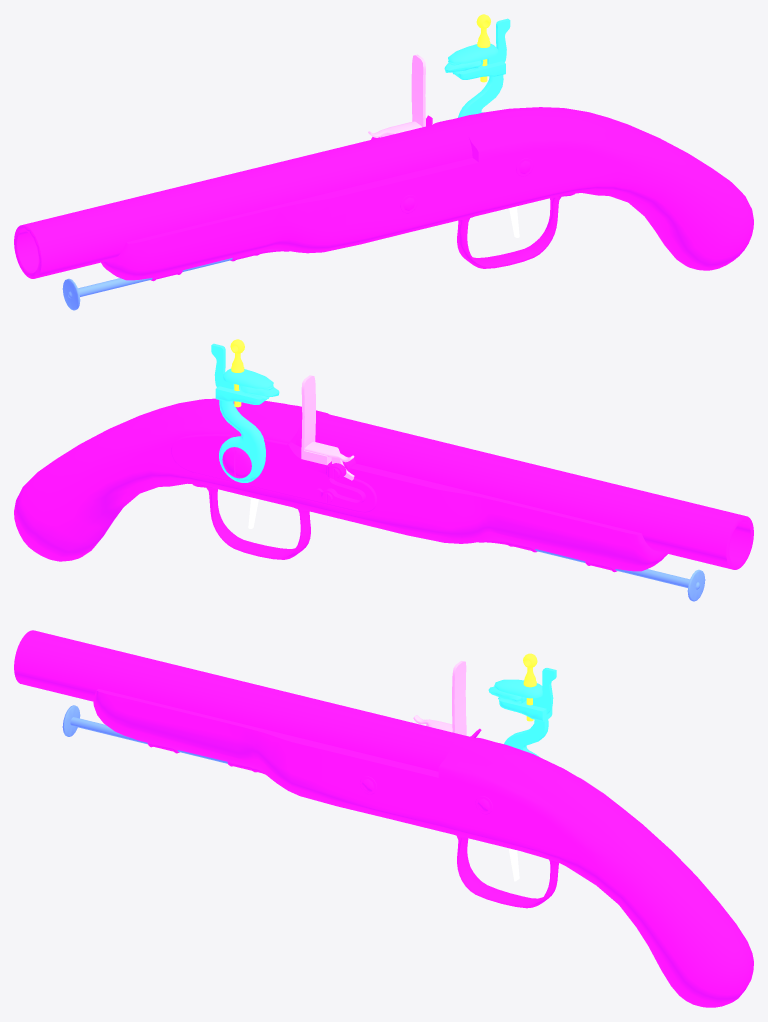
The model's file is Pistols_Steel.fbx.
3 views of the same model, one above another, from view 1: azimuth 30°, elevation 25°; view 2: azimuth 150°, elevation 25°; view 3: azimuth 330°, elevation 25° (orthographic).
Parts seen in each view (by area): view 1: 016-0-16, 020-0-20, 019-0-19, 017-0-17; view 2: 016-0-16, 020-0-20, 019-0-19, 017-0-17, 021-0-21; view 3: 016-0-16, 020-0-20, 019-0-19, 017-0-17.
Part boxes in pixels (x1,y1,x2,y2): 016-0-16: (14, 107, 753, 281); 020-0-20: (444, 18, 510, 117); 019-0-19: (368, 54, 425, 137); 017-0-17: (62, 258, 232, 310); 016-0-16: (14, 398, 753, 572); 020-0-20: (211, 343, 279, 482); 019-0-19: (301, 375, 354, 480); 017-0-17: (535, 549, 705, 601); 021-0-21: (230, 339, 244, 407); 016-0-16: (14, 630, 753, 1007); 020-0-20: (488, 668, 556, 756); 019-0-19: (413, 661, 466, 735); 017-0-17: (62, 705, 227, 763).
Size of the model in its own units: 260 by 2138 by 805.
